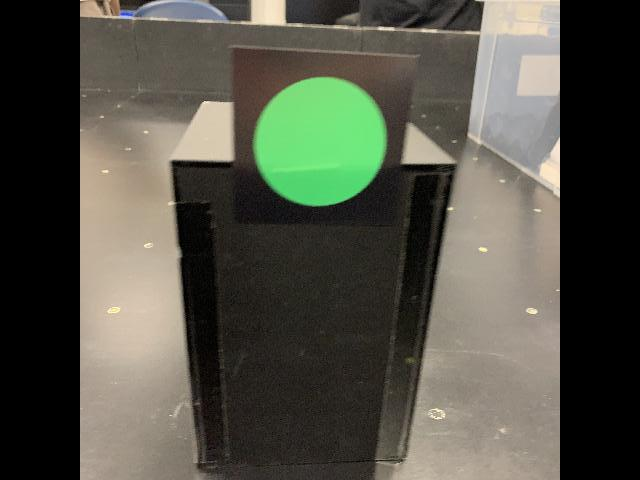go: (226, 43, 422, 229)
